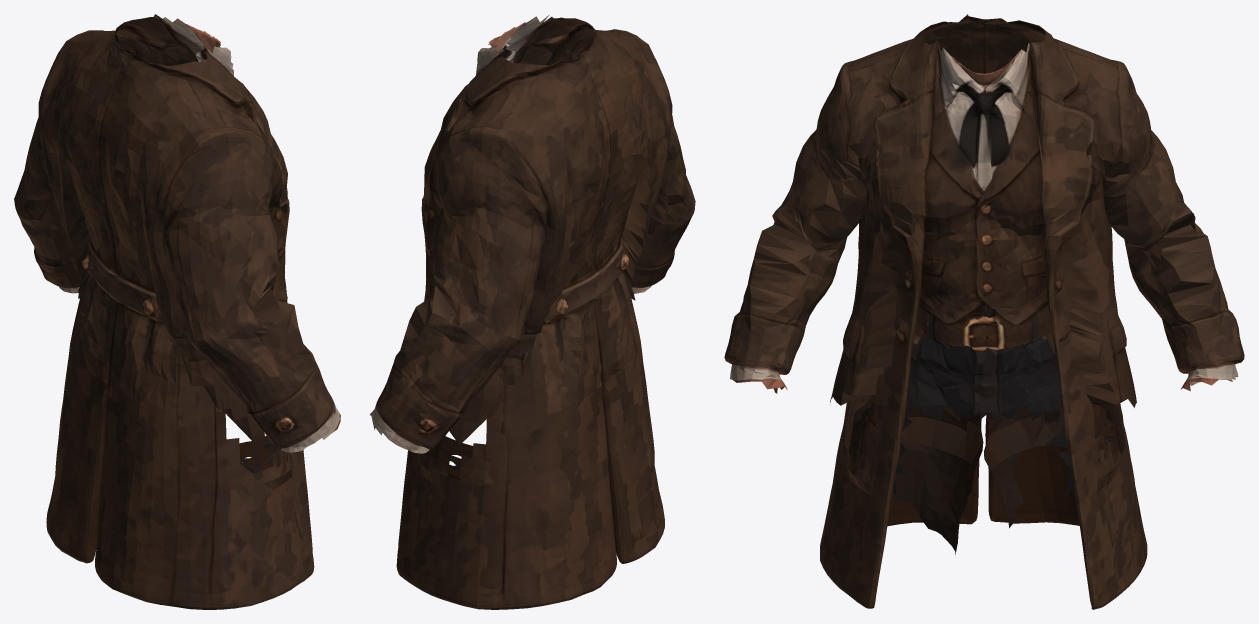
The model's file is bold_cowboy_coat.glb.
3 views of the same model, side by side, from view 1: azimuth 30°, elevation 25°; view 2: azimuth 150°, elevation 25°; view 3: azimuth 270°, elevation 25° (orthographic). The views are drawn at different scales.
Visible parts, largest first — view 1: coat; view 2: coat; view 3: coat.
Part boxes in pixels (bbox=[...]): coat: bbox=[14, 14, 340, 609]; coat: bbox=[370, 14, 695, 609]; coat: bbox=[724, 14, 1244, 609].
Bounding box in the file's own units: 0.2006 × 0.5669 × 0.4995.
Materials: 1 (1 with a texture image).
